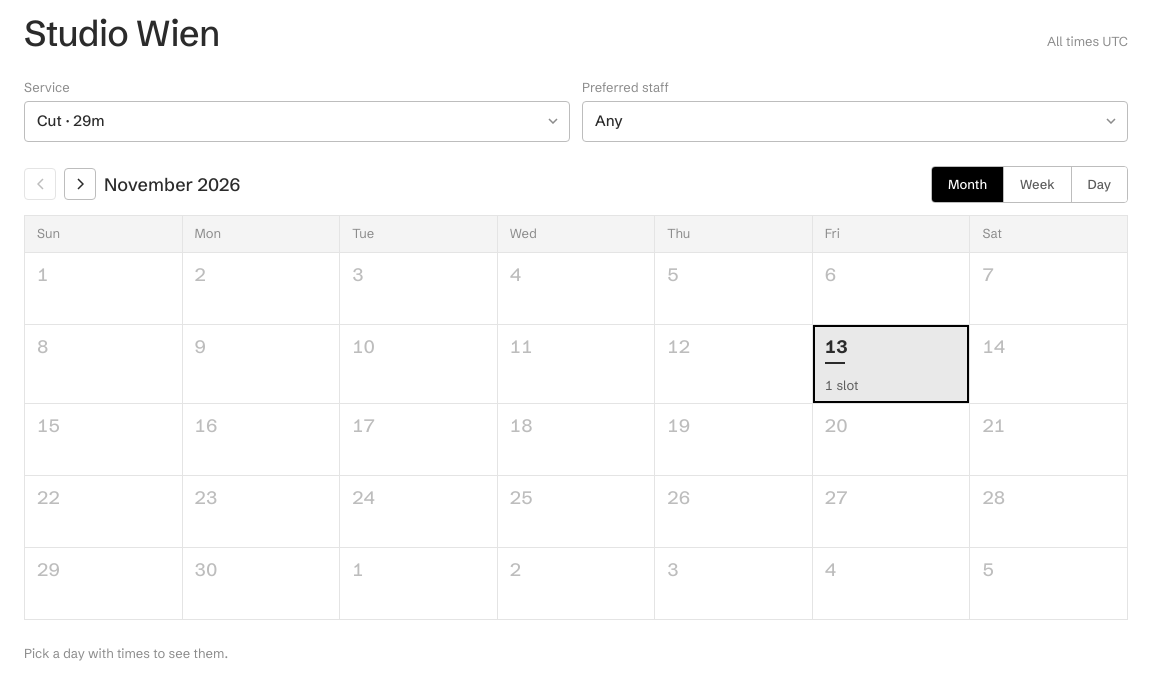
Booking › says why when someone else took the time first
Click the button "13 1 slot". click: (892, 364)
box: [813,325,970,404]
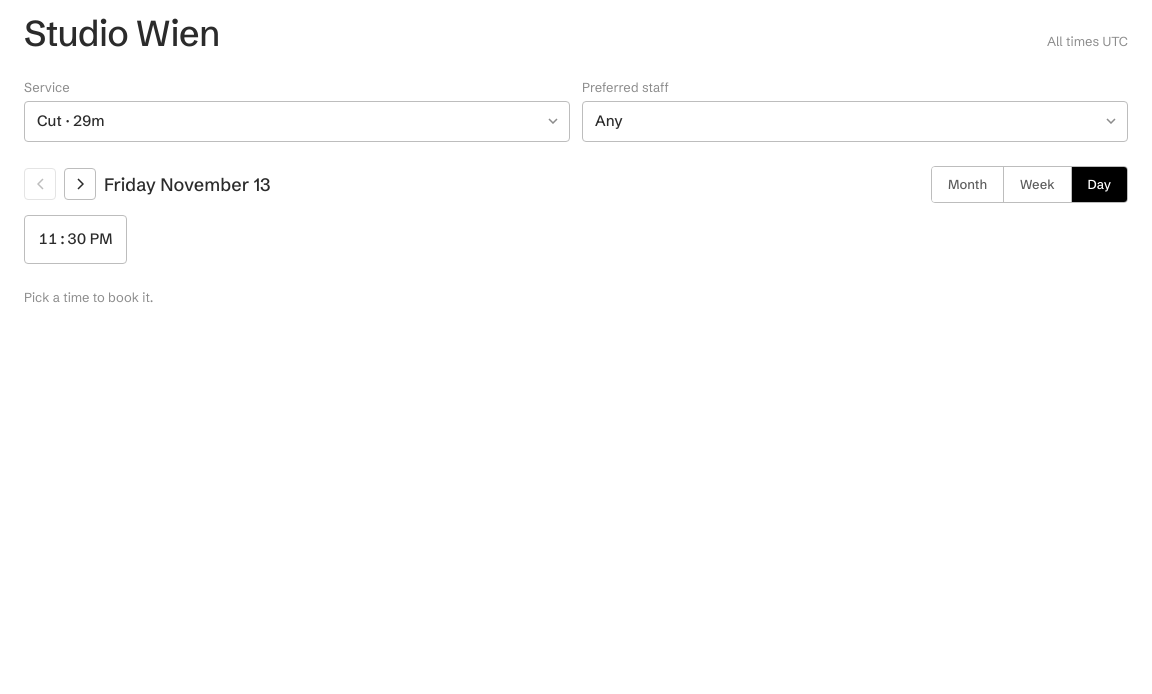
Click the button "11:30 PM". click: (76, 239)
box: [24,215,127,264]
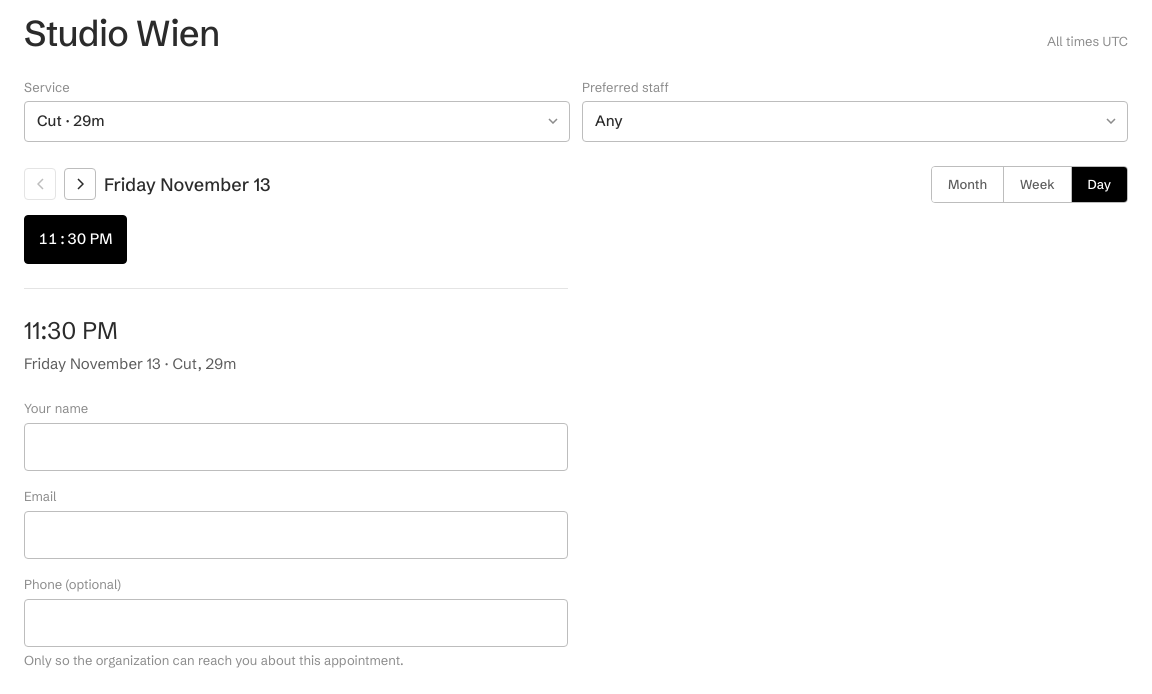
Type "Jo" into the field labelled "Your name". click: (296, 447)
box: [24,423,568,471]
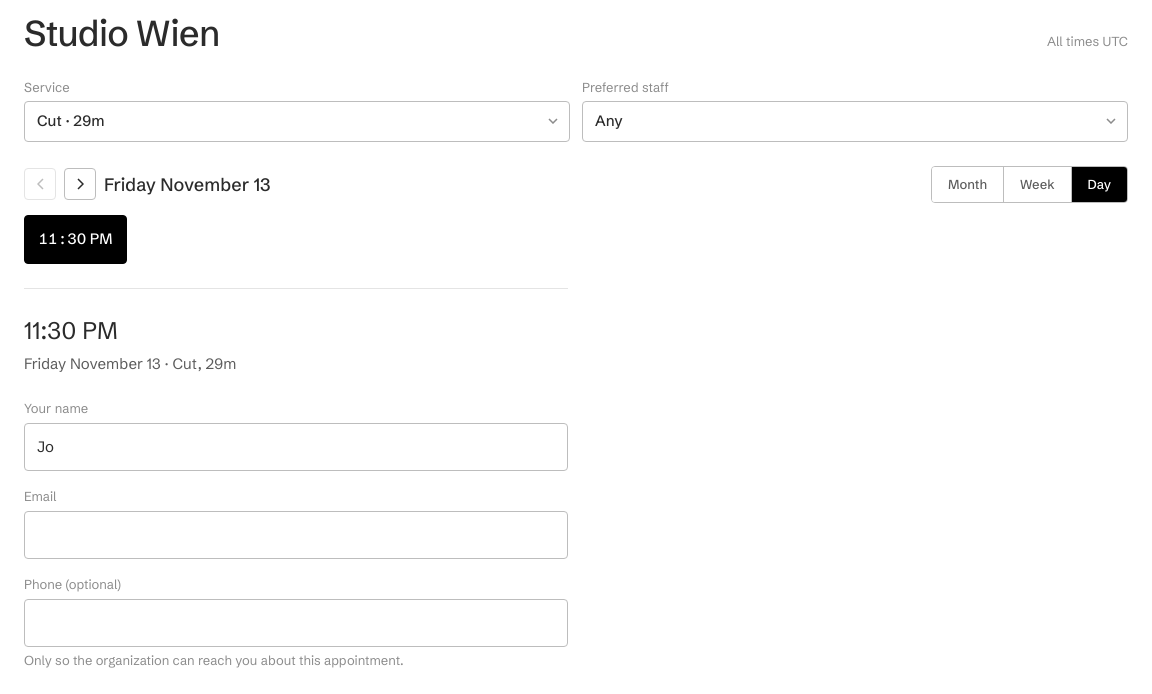
Type "jo@example.com" into the field labelled "Email". click: (296, 535)
box: [24,511,568,559]
(page scrolled)
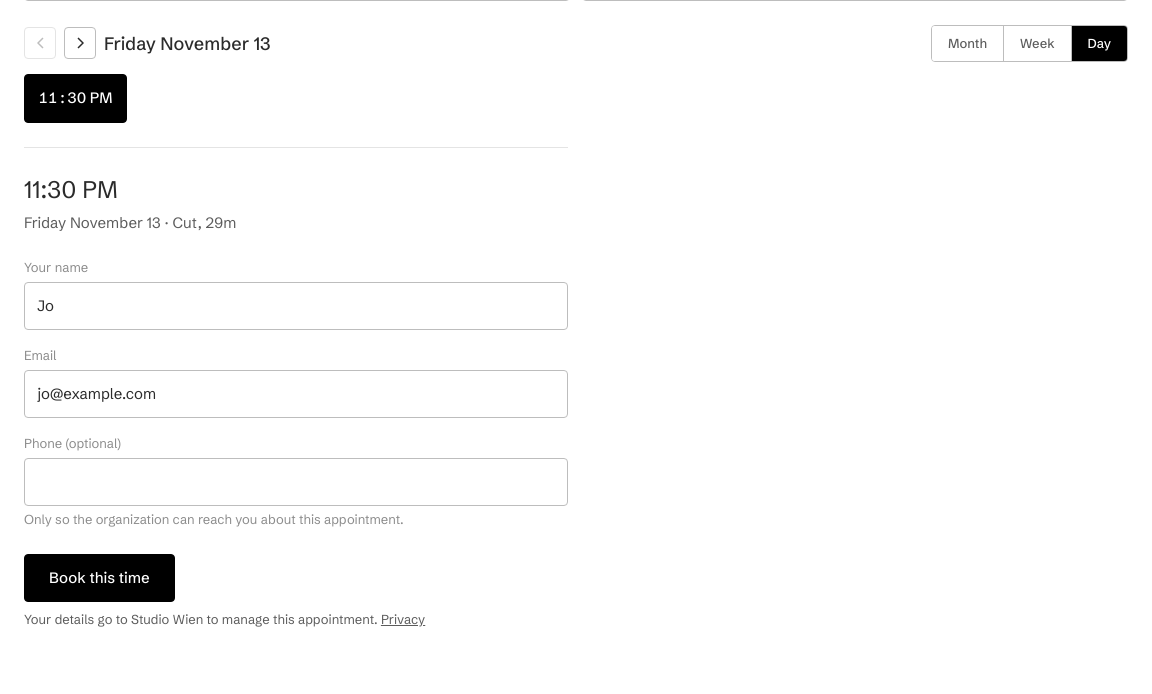
Click the button "Book this time". click: (99, 578)
box: [24,554,175,602]
(page scrolled)
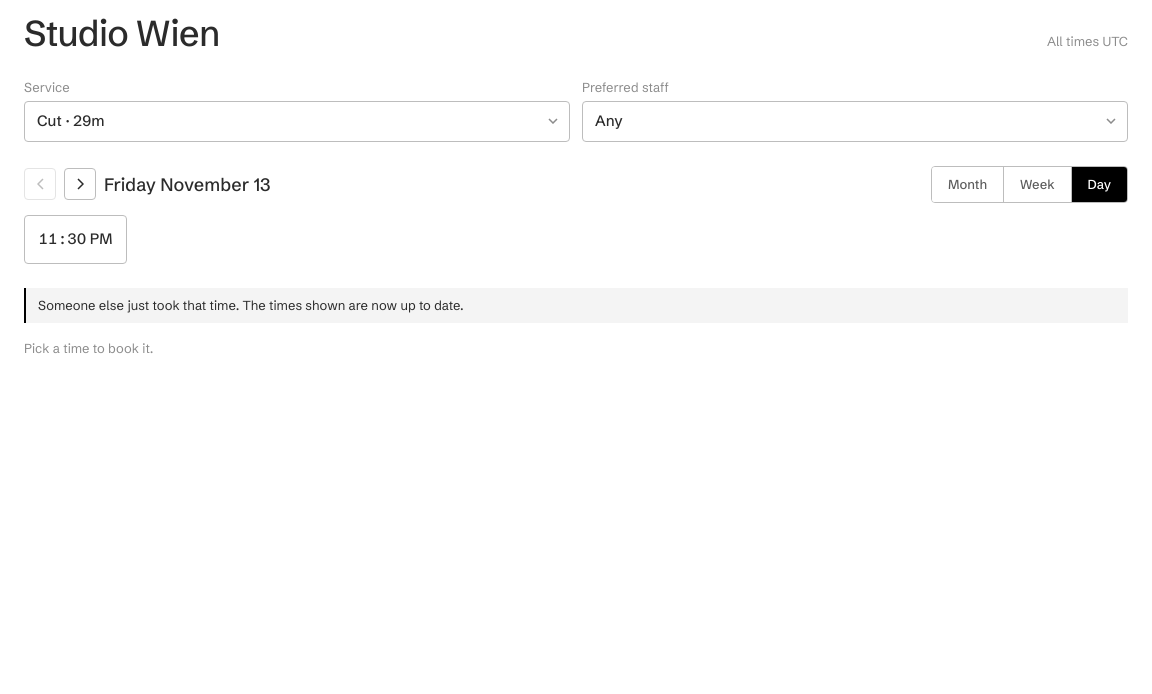
Expected: the text "Someone else just took that time. The times shown are now up to date." is shown, [24,288,1128,323]
